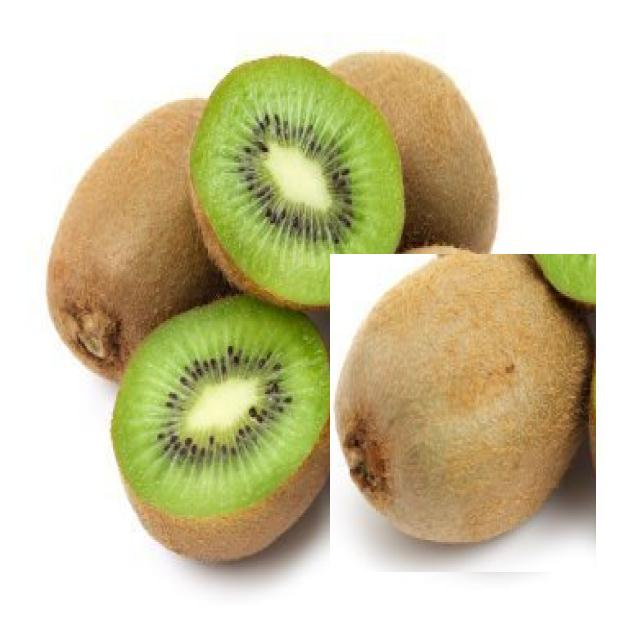Qiwi: (330, 254, 596, 572), (42, 61, 262, 386), (118, 286, 346, 562), (191, 47, 427, 307), (303, 41, 522, 272)
